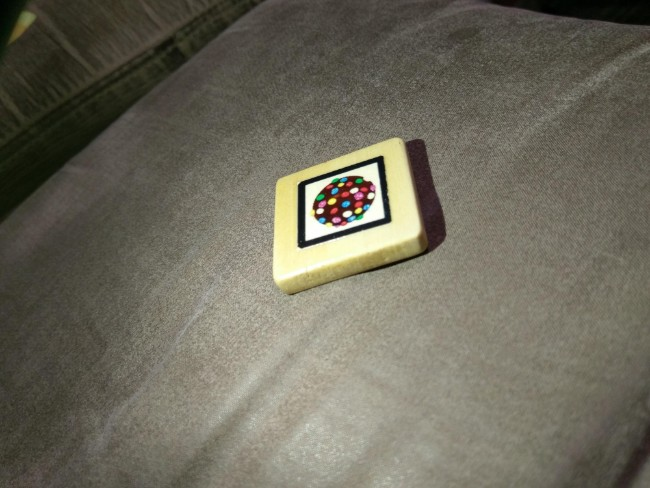cookie: (298, 163, 388, 240)
